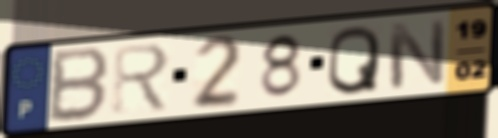2: (191, 33, 245, 113)
8: (257, 32, 303, 101)
B: (45, 44, 113, 125)
N: (385, 18, 448, 92)
Q: (324, 23, 382, 97)
R: (110, 41, 174, 116)
